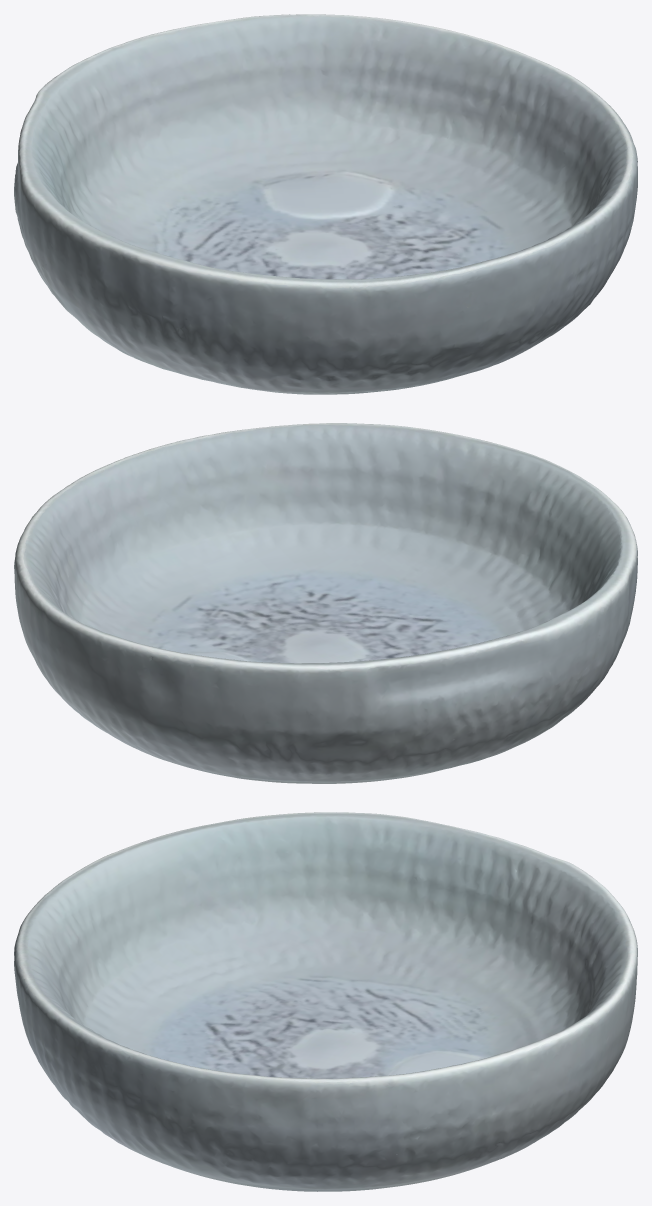
The model's file is Threshold_Porcelain_Serving_Bowl_Coupe_White.glb.
The picture shows the model from 3 angles, top to bottom: view 1: azimuth 30°, elevation 25°; view 2: azimuth 150°, elevation 25°; view 3: azimuth 270°, elevation 25°; orthographic projection. The views are drawn at different scales.
Parts seen in each view (by area): view 1: geometry_0; view 2: geometry_0; view 3: geometry_0.
Part boxes in pixels (bbox=[...]): geometry_0: bbox=[14, 14, 637, 394]; geometry_0: bbox=[14, 423, 637, 783]; geometry_0: bbox=[14, 812, 637, 1191].
Bounding box in the file's own units: 0.999 × 0.2903 × 0.9974.
Materials: 1 (1 with a texture image).
